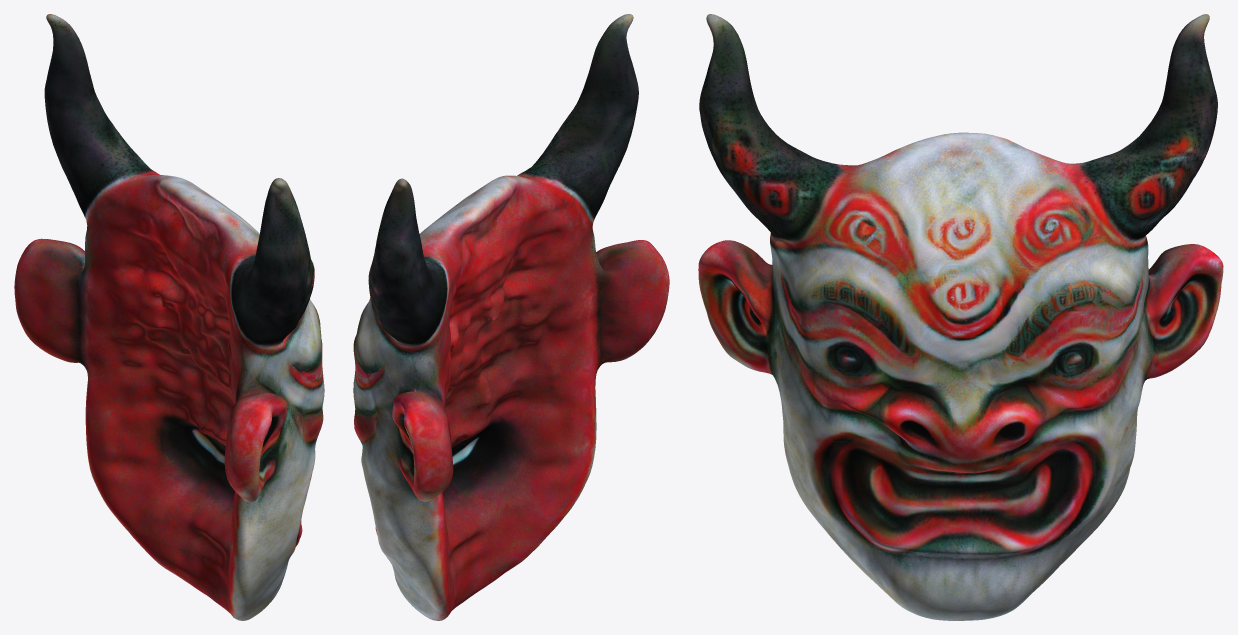
File: chinese_demon_mask.glb
3 views of the same model, side by side, from view 1: azimuth 30°, elevation 25°; view 2: azimuth 150°, elevation 25°; view 3: azimuth 270°, elevation 25° (orthographic). The views are drawn at different scales.
Parts seen in each view (by area): view 1: default_002-material; view 2: default_002-material; view 3: default_002-material.
Boxes of the visible parts, x1,y1,x2,y2 form: default_002-material: (14, 14, 324, 620); default_002-material: (353, 14, 669, 620); default_002-material: (698, 14, 1223, 620).
Bounding box in the file's own units: 0.5014 × 1.39 × 1.16.
1 material, 1 textured.
